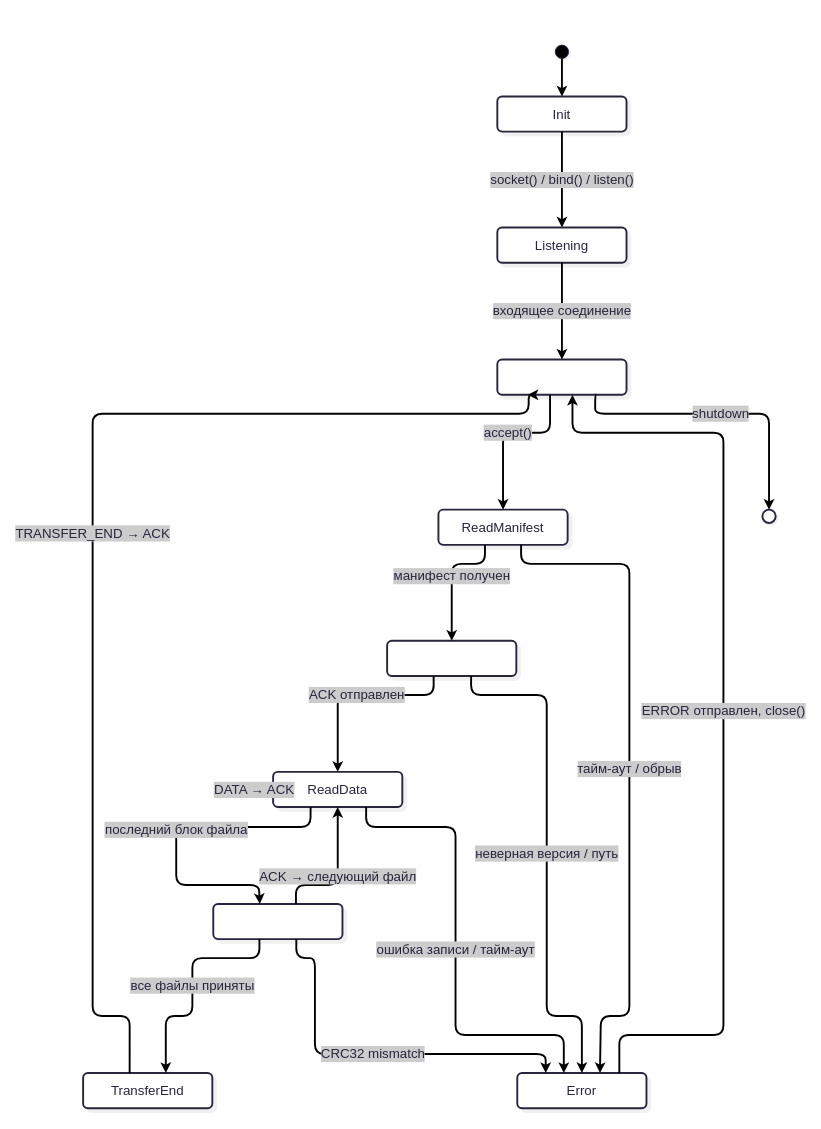
Image size: 821x1129. Some labels were removed from this diagram. Each missing label, with the centre of its shape:
"Accept" goes at pixel 563 378.
"ReadFileEnd" goes at pixel 279 922.
"Validate" goes at pixel 453 659.
